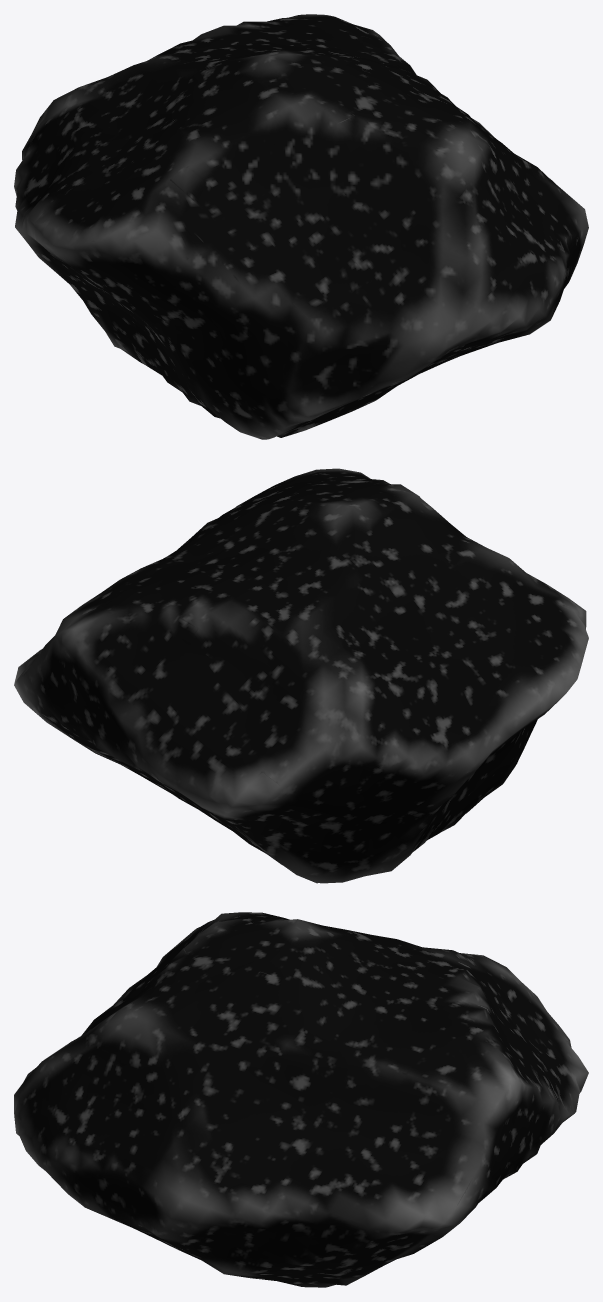
File: lunar_rock1.glb
3 renders of one model, top to bottom at view 1: azimuth 30°, elevation 25°; view 2: azimuth 150°, elevation 25°; view 3: azimuth 270°, elevation 25°, orthographic. The views are drawn at different scales.
Visible parts, largest first — view 1: lunar_rock_1; view 2: lunar_rock_1; view 3: lunar_rock_1.
Boxes of the visible parts, x1,y1,x2,y2 form: lunar_rock_1: (14,14,588,439); lunar_rock_1: (14,468,588,883); lunar_rock_1: (14,912,588,1287).
Size of the model in its own units: 0.161 by 0.1077 by 0.1711.
Materials: 1 (1 with a texture image).
